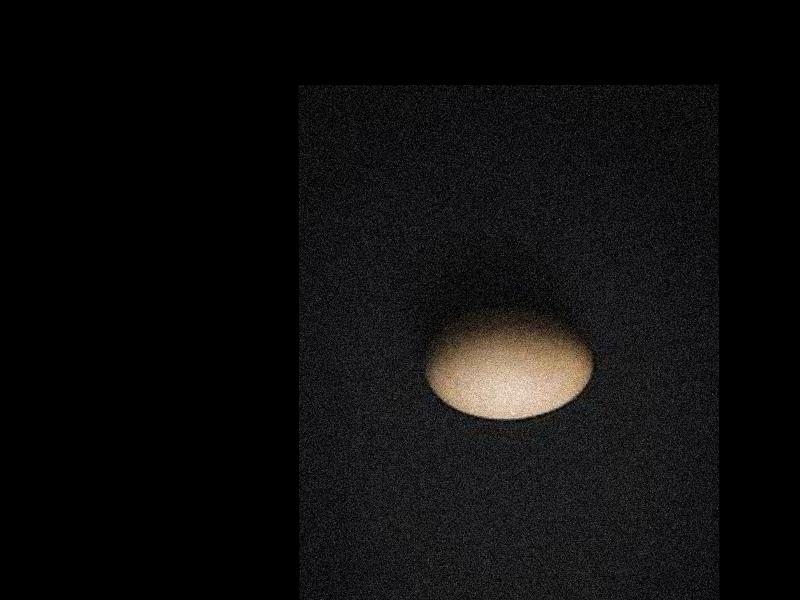Eggs: (422, 311, 597, 419)
